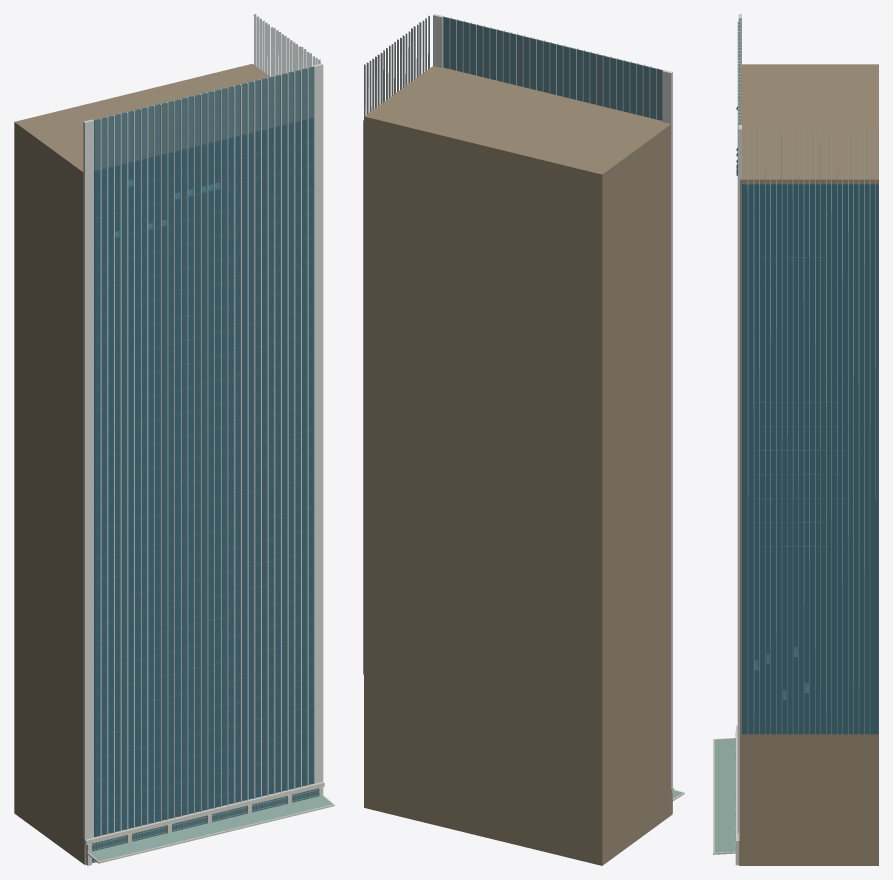
Rendered from light.glb.
3 renders of one model, left to right at view 1: azimuth 30°, elevation 25°; view 2: azimuth 150°, elevation 25°; view 3: azimuth 270°, elevation 25°, orthographic.
Visible parts, largest first — view 1: Observed_blue_backed_glazing, KEEP_TOWER_WEB_HOLD_ochre_unknown_geometry, Observed_silver_vertical_blades, Observed_white_terminal_piers, Observed_crown_transmissive_front_screen, H_continuous_pale_green_surface, H_visible_white_columns, H_entrance_bluegray, H_fine_front_separators; view 2: KEEP_TOWER_WEB_HOLD_ochre_unknown_geometry, Observed_crown_transmissive_front_screen, Observed_silver_vertical_blades, Observed_white_terminal_piers; view 3: Observed_blue_backed_glazing, KEEP_TOWER_WEB_HOLD_ochre_unknown_geometry, Observed_silver_vertical_blades, H_continuous_pale_green_surface, Observed_white_terminal_piers, H_visible_white_columns.
Part boxes in pixels (<box>): Observed_blue_backed_glazing: <box>94,118,313,836</box>; KEEP_TOWER_WEB_HOLD_ochre_unknown_geometry: <box>14,63,313,863</box>; Observed_silver_vertical_blades: <box>99,14,320,836</box>; Observed_white_terminal_piers: <box>83,63,323,839</box>; Observed_crown_transmissive_front_screen: <box>94,66,313,170</box>; H_continuous_pale_green_surface: <box>89,795,332,861</box>; H_visible_white_columns: <box>84,782,334,865</box>; H_entrance_bluegray: <box>91,788,317,863</box>; H_fine_front_separators: <box>92,789,317,862</box>; KEEP_TOWER_WEB_HOLD_ochre_unknown_geometry: <box>364,66,671,865</box>; Observed_crown_transmissive_front_screen: <box>443,16,662,120</box>; Observed_silver_vertical_blades: <box>364,15,658,119</box>; Observed_white_terminal_piers: <box>433,14,672,789</box>; Observed_blue_backed_glazing: <box>736,106,878,734</box>; KEEP_TOWER_WEB_HOLD_ochre_unknown_geometry: <box>740,64,878,865</box>; Observed_silver_vertical_blades: <box>737,21,875,833</box>; H_continuous_pale_green_surface: <box>714,738,735,852</box>; Observed_white_terminal_piers: <box>738,14,741,840</box>; H_visible_white_columns: <box>713,725,738,865</box>.
Bounding box in the file's own units: 40.06 × 117 × 23.89.
